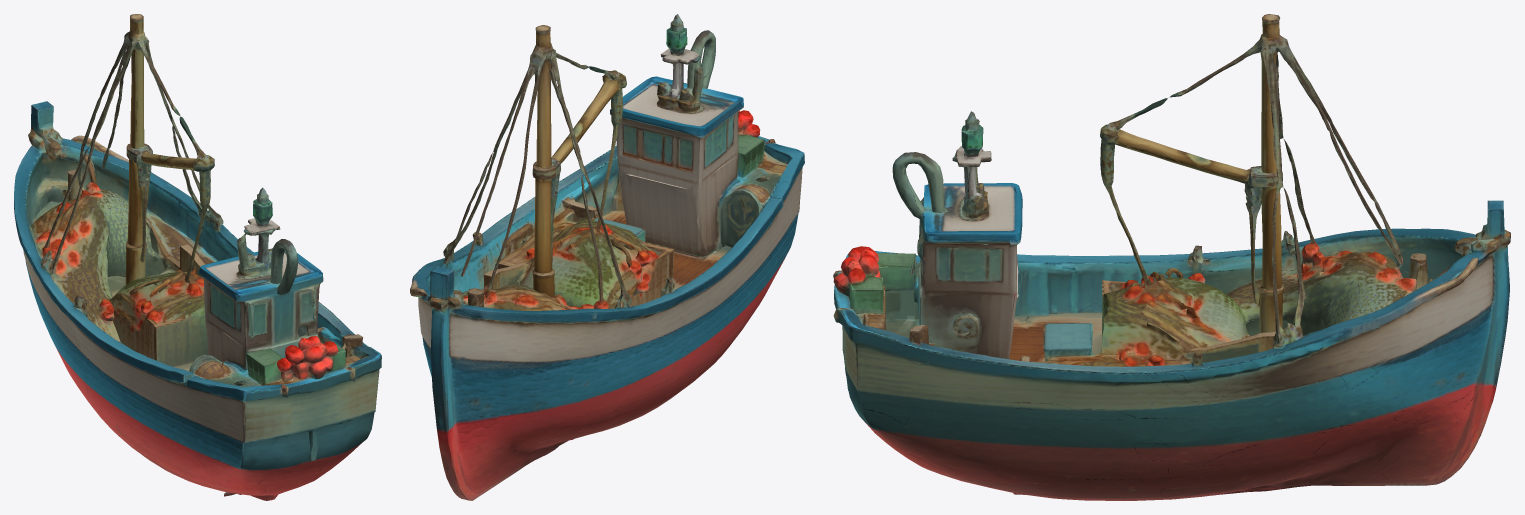
The model's file is boat_jaffa_motorboat.glb.
3 views of the same model, side by side, from view 1: azimuth 30°, elevation 25°; view 2: azimuth 150°, elevation 25°; view 3: azimuth 270°, elevation 25° (orthographic). The views are drawn at different scales.
Parts seen in each view (by area): view 1: geometry_0; view 2: geometry_0; view 3: geometry_0.
Boxes of the visible parts, box(x1,y1,x2,y2) form: geometry_0: box(14, 14, 381, 500); geometry_0: box(410, 14, 804, 500); geometry_0: box(833, 14, 1510, 500).
Size of the model in its own units: 4.13 by 7.76 by 10.
1 material, 1 textured.
